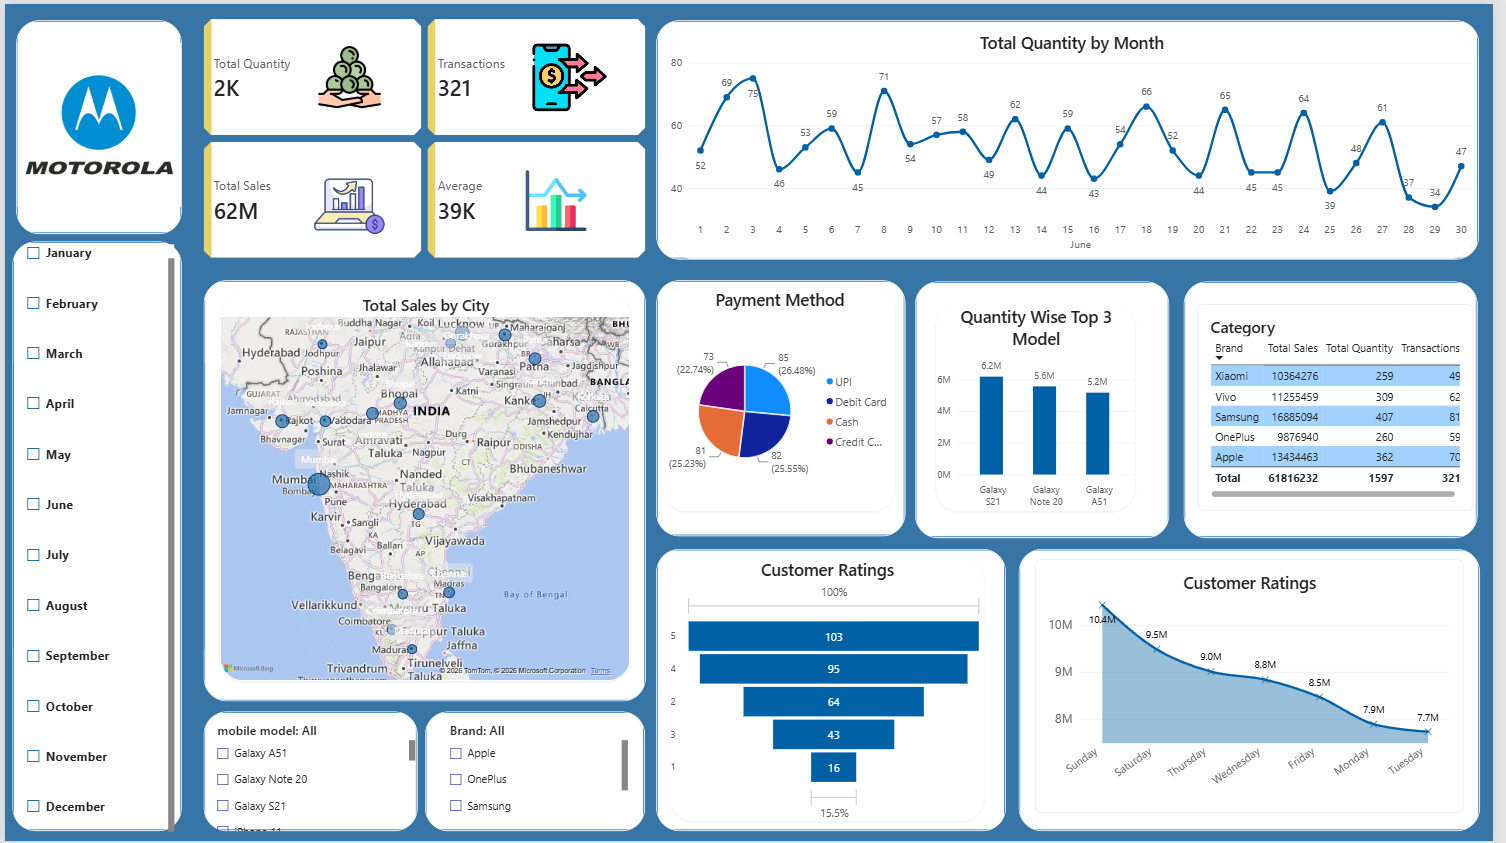

This screenshot's page, from the dashboard's own definition file:
{"tool":"powerbi","page":{"name":"Duplicate of Page 1","canvas":[1920,1080],"ordinal":0},"visuals":[{"type":"shape","box":[14,20.3,213.6,275.9],"z":0},{"type":"shape","box":[9.4,307.1,218.2,760.7],"z":1000},{"type":"cardVisual","fields":{"Data":["Sales_data.Total Quantity","Sales_data.Transactions","Sales_data.Total Sales","Sales_data.Average"]},"box":[255.8,19.5,570.2,309.1],"z":2000},{"type":"image","box":[359.3,214.5,169.2,92.4],"z":3000},{"type":"image","box":[322.7,52.3,244.2,85.5],"z":4000},{"type":"image","box":[668,47.1,122.1,95.9],"z":5000},{"type":"image","box":[582.6,214.5,258.1,78.5],"z":6000},{"type":"shape","box":[255.8,357.1,570.2,543.6],"z":7000},{"type":"map","fields":{"Category":["Sales_data.City"],"Size":["Sales_data.Total Sales"]},"box":[277.1,374.8,529.4,499.2],"z":8000},{"type":"shape","box":[840.2,20.3,1061.6,308.7],"z":9000},{"type":"lineChart","title":"Total Quantity by Month","fields":{"Category":["Sales_data.Date.Variation.Date Hierarchy.Month","Sales_data.Date.Variation.Date Hierarchy.Day"],"Y":["Sales_data.Total Quantity"]},"box":[858,33.8,1035.7,294.9],"z":10000},{"type":"shape","box":[1174.7,357.7,328.4,331],"z":11000},{"type":"clusteredColumnChart","title":"Quantity Wise Top 3 Model","fields":{"Category":["Sales_data.Mobile Model"],"Y":["Sales_data.Total Sales"]},"box":[1201.7,387.2,256.4,266.9],"z":12000},{"type":"shape","box":[1521.7,357.7,379.1,331],"z":13000},{"type":"shape","box":[840.3,357.1,321.5,330.4],"z":14000},{"type":"pieChart","title":"Payment Method","fields":{"Category":["Sales_data.Payment Method"],"Y":["Sales_data.Transactions"]},"box":[849.4,366.3,298.3,287.8],"z":15000},{"type":"shape","box":[840.3,703.5,451.2,364.2],"z":16000},{"type":"funnel","title":"Customer Ratings","fields":{"Category":["Sales_data.Customer Ratings"],"Y":["CountNonNull(Sales_data.Customer Ratings)"]},"box":[858.1,715.1,404.7,340.1],"z":17000},{"type":"shape","box":[1307.5,703.5,595.1,364.2],"z":18000},{"type":"areaChart","title":"Customer Ratings","fields":{"Category":["Sales_data.Day Name"],"Y":["Sales_data.Total Sales"]},"box":[1328.8,715.9,552.5,326.9],"z":19000},{"type":"tableEx","title":"Category","fields":{"Values":["Sales_data.Brand","Sales_data.Total Sales","Sales_data.Total Quantity","Sales_data.Transactions"]},"box":[1538.4,387.2,355.8,266.9],"z":20000},{"type":"shape","box":[255.7,913.5,275.9,154.3],"z":21000},{"type":"shape","box":[542.5,913.5,283.7,154.3],"z":22000},{"type":"slicer","title":"Payment Method","fields":{"Values":["Sales_data.Mobile Model"]},"box":[266.6,926,263.5,141.9],"z":23000},{"type":"slicer","fields":{"Values":["Sales_data.Brand"]},"box":[566.3,925.8,237.3,129.4],"z":24000},{"type":"image","box":[15.7,19.2,211,273.8],"z":25000},{"type":"slicer","fields":{"Values":["Sales_data.Date.Variation.Date Hierarchy.Month"]},"box":[21.7,307.7,197.3,760.2],"z":25001}]}

Visuals, with their boxes in screenshot pixels (x1, y1, x2, y2), scaled from the page's 1920x1080 canvas onto the 1506x843 screenshot:
shape: x1=11, y1=16, x2=179, y2=231
shape: x1=7, y1=240, x2=179, y2=833
cardVisual - Sales_data.Total Quantity x Sales_data.Transactions: x1=201, y1=15, x2=648, y2=256
image: x1=282, y1=167, x2=415, y2=240
image: x1=253, y1=41, x2=445, y2=108
image: x1=524, y1=37, x2=620, y2=112
image: x1=457, y1=167, x2=659, y2=229
shape: x1=201, y1=279, x2=648, y2=703
map - Sales_data.City x Sales_data.Total Sales: x1=217, y1=293, x2=633, y2=682
shape: x1=659, y1=16, x2=1492, y2=257
"Total Quantity by Month" lineChart: x1=673, y1=26, x2=1485, y2=257
shape: x1=921, y1=279, x2=1179, y2=538
"Quantity Wise Top 3 Model" clusteredColumnChart: x1=943, y1=302, x2=1144, y2=511
shape: x1=1194, y1=279, x2=1491, y2=538
shape: x1=659, y1=279, x2=911, y2=537
"Payment Method" pieChart: x1=666, y1=286, x2=900, y2=511
shape: x1=659, y1=549, x2=1013, y2=833
"Customer Ratings" funnel: x1=673, y1=558, x2=991, y2=824
shape: x1=1026, y1=549, x2=1492, y2=833
"Customer Ratings" areaChart: x1=1042, y1=559, x2=1476, y2=814
"Category" tableEx: x1=1207, y1=302, x2=1486, y2=511
shape: x1=201, y1=713, x2=417, y2=833
shape: x1=426, y1=713, x2=648, y2=833
"Payment Method" slicer: x1=209, y1=723, x2=416, y2=834
slicer - Sales_data.Brand: x1=444, y1=723, x2=630, y2=824
image: x1=12, y1=15, x2=178, y2=229
slicer - Sales_data.Date.Variation.Date Hierarchy.Month: x1=17, y1=240, x2=172, y2=834
